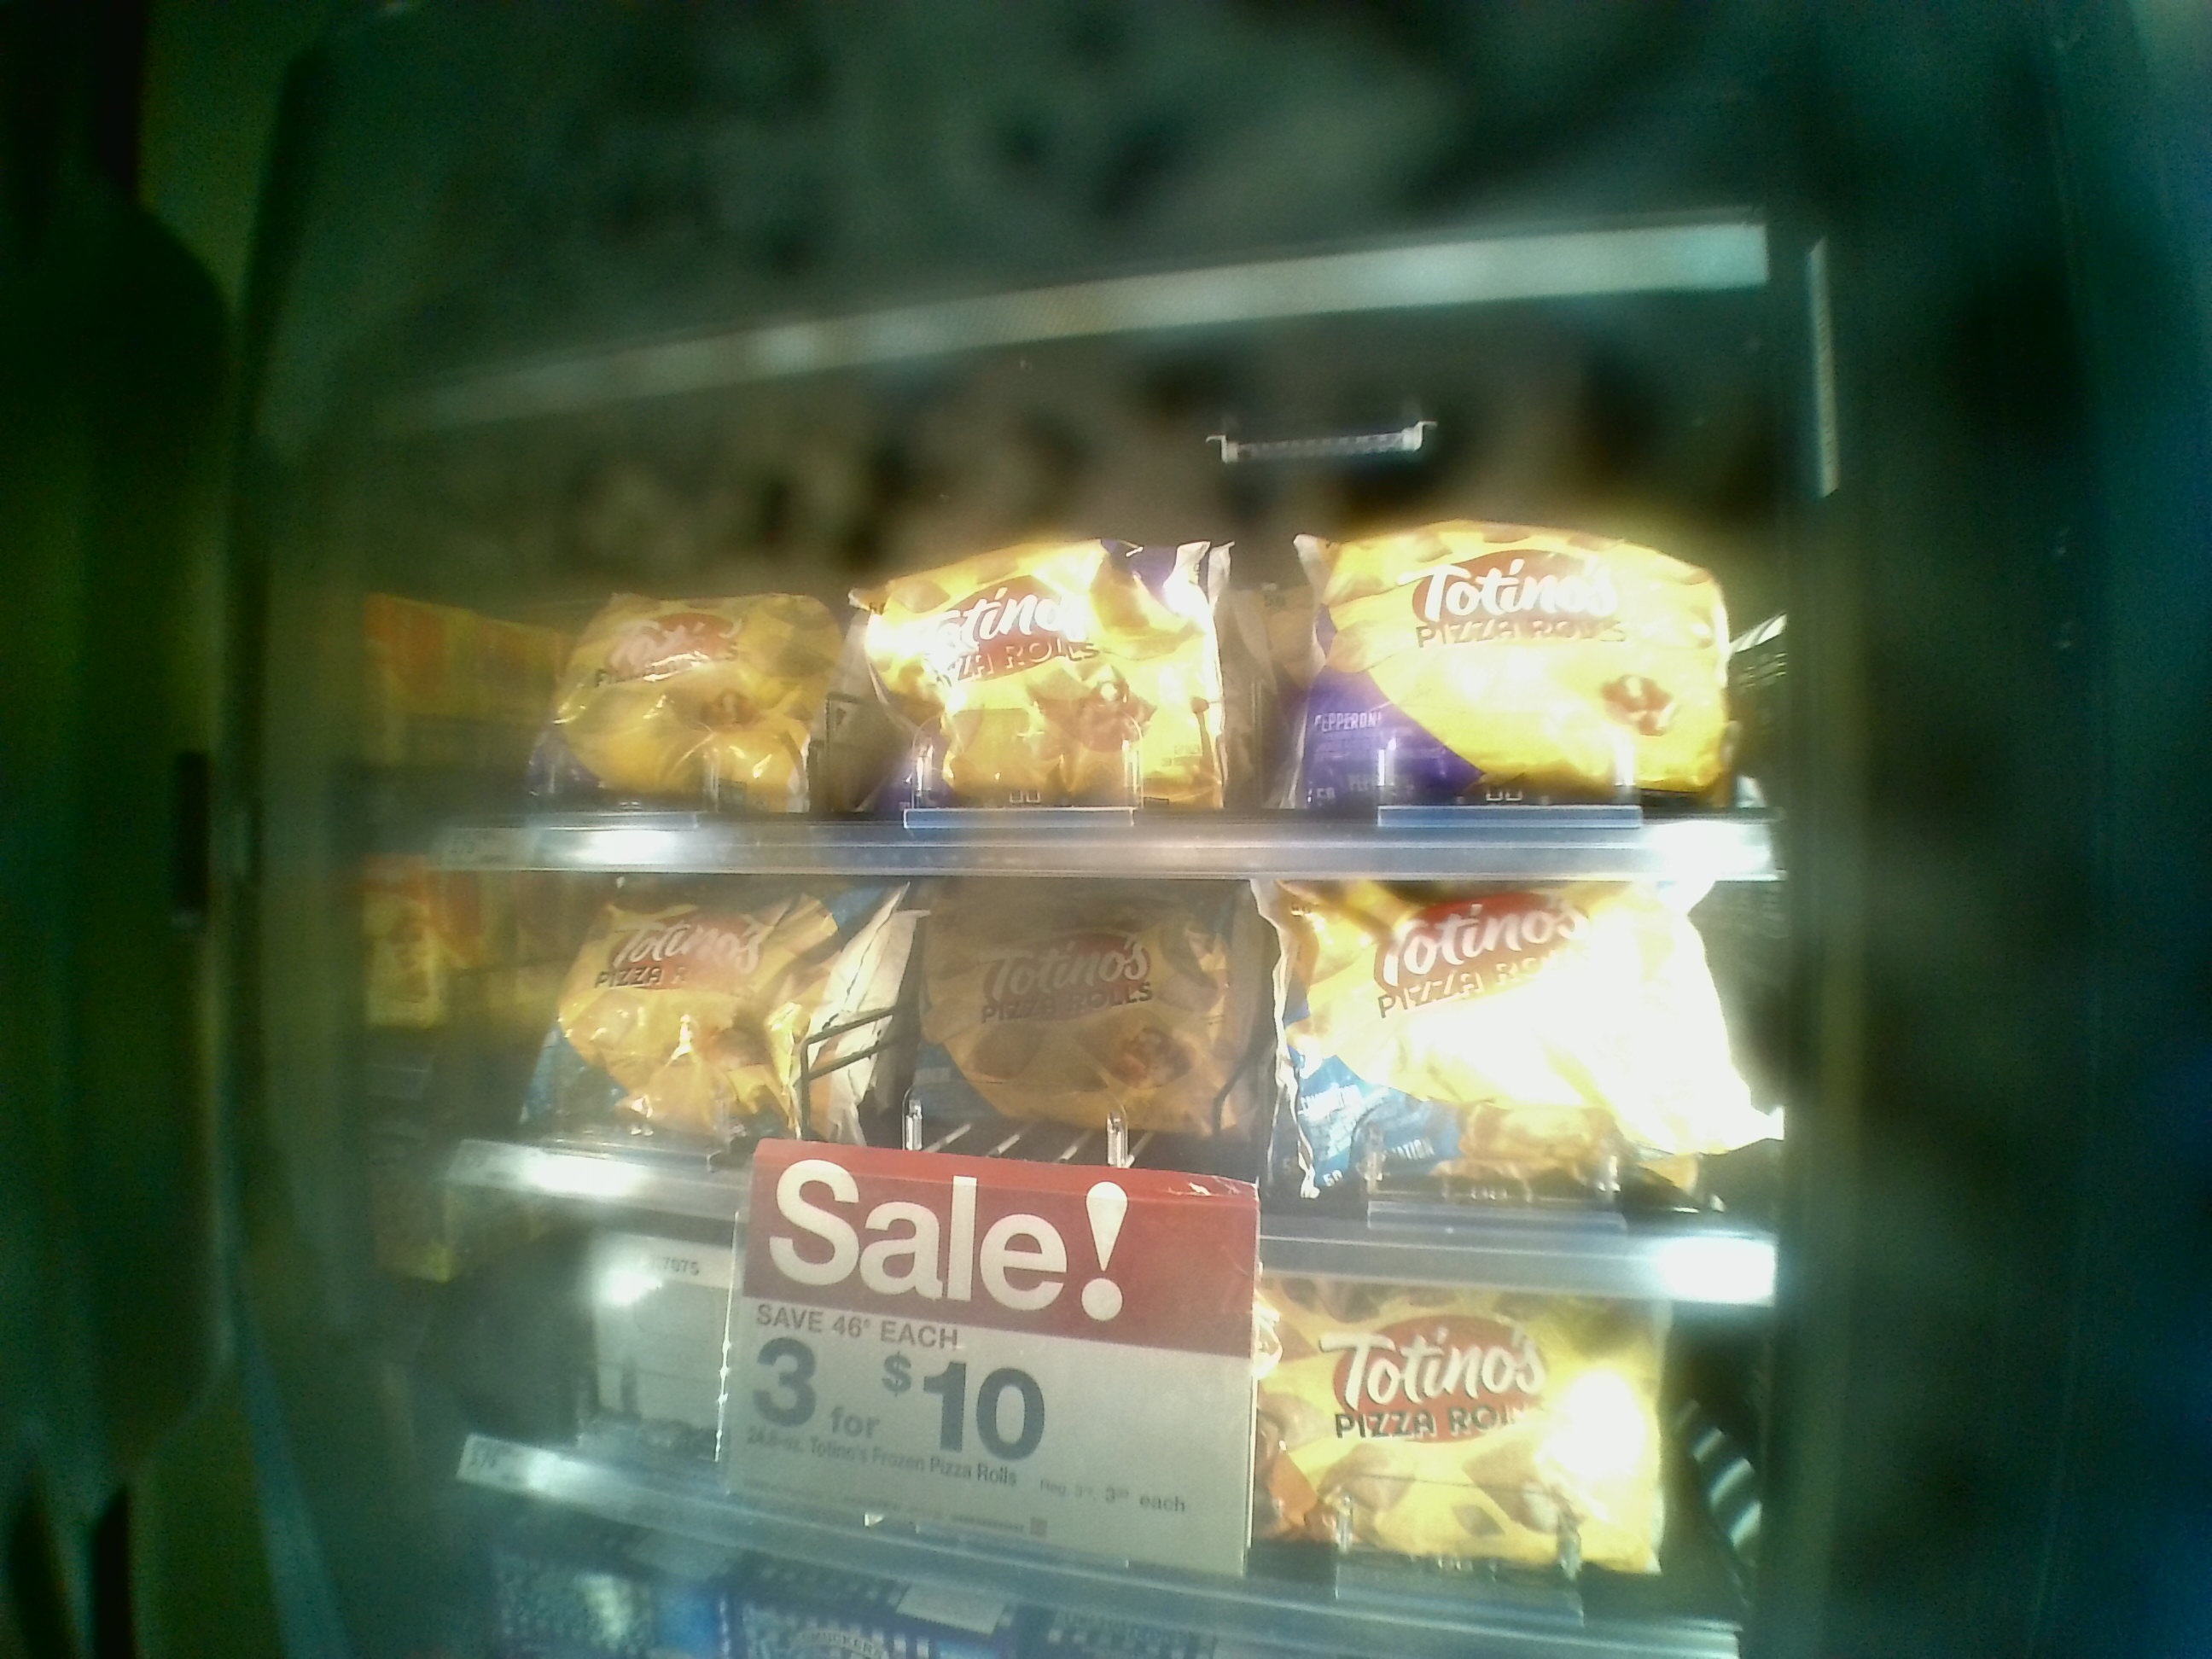shelf: (345, 845, 1787, 1300)
